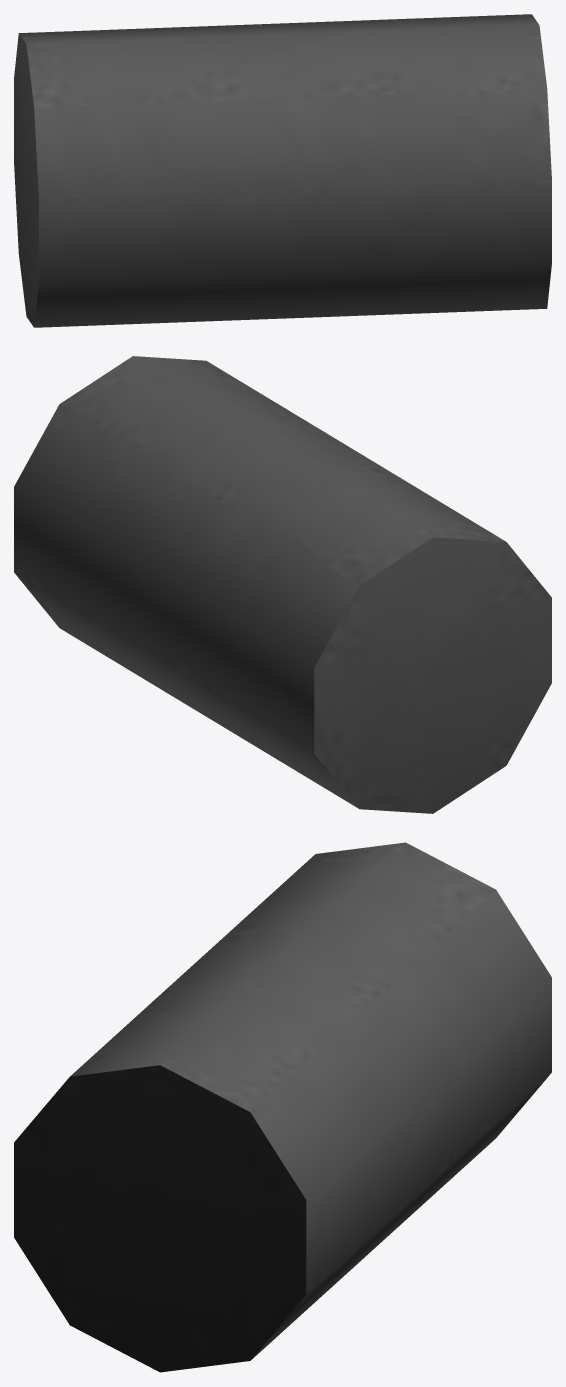
File: carbon-fiber.glb
3 views of the same model, one above another, from view 1: azimuth 30°, elevation 25°; view 2: azimuth 150°, elevation 25°; view 3: azimuth 270°, elevation 25° (orthographic). The views are drawn at different scales.
Visible parts, largest first — view 1: carbon-fiber; view 2: carbon-fiber; view 3: carbon-fiber.
Part boxes in pixels (box(x1,y1,x2,y2)): carbon-fiber: box(14, 14, 551, 327); carbon-fiber: box(14, 356, 551, 813); carbon-fiber: box(14, 842, 551, 1372).
Size of the model in its own units: 0.2738 by 0.14 by 0.2221.
Materials: 1 (1 with a texture image).
